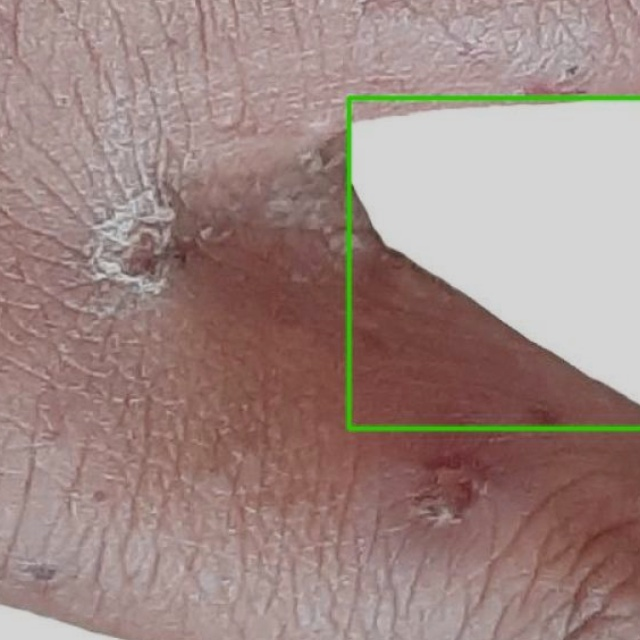Scabies: (349, 98, 639, 428)
